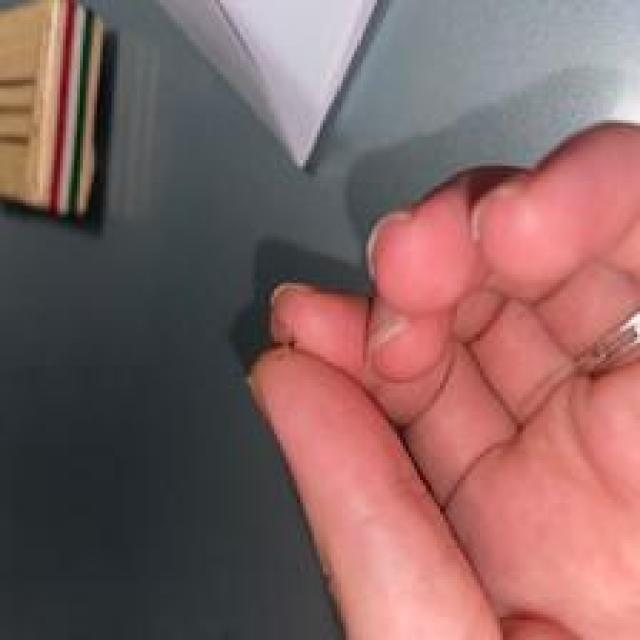Culex: (0, 0, 109, 223)
